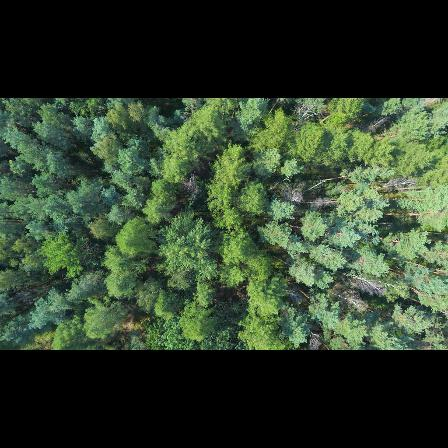Dead: (330, 288, 370, 312), (347, 273, 388, 295), (291, 103, 317, 134), (382, 175, 417, 195), (181, 171, 203, 200), (365, 116, 394, 138), (307, 193, 341, 211), (284, 183, 304, 211), (283, 287, 308, 305), (305, 330, 327, 350)
